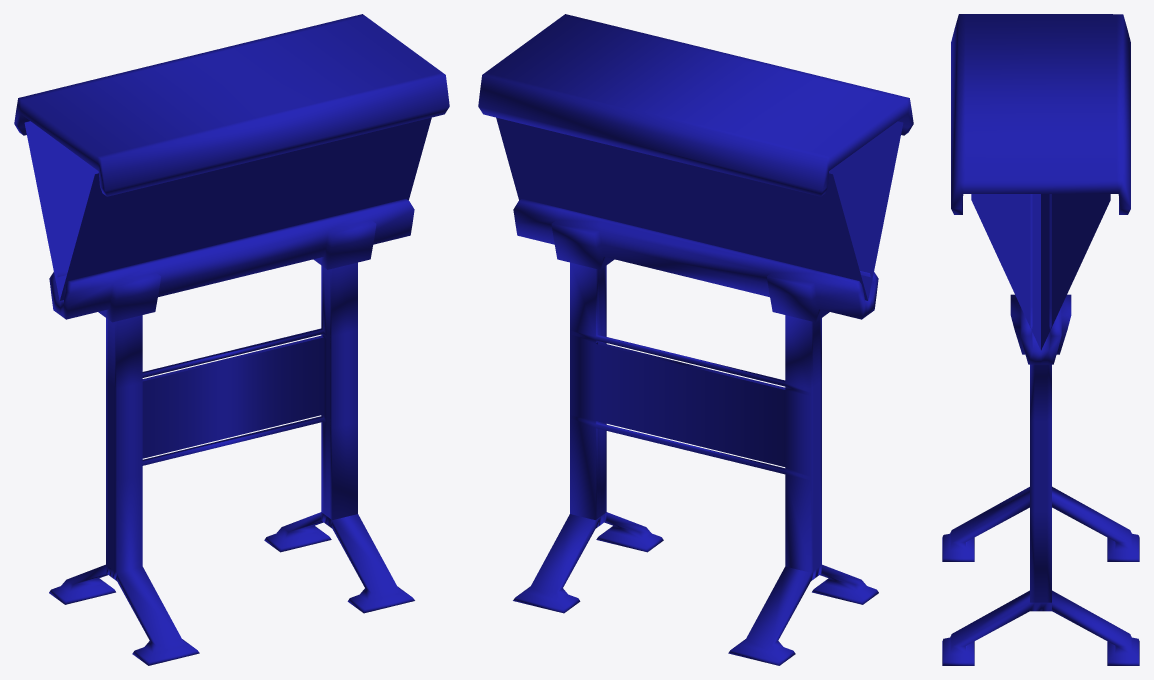
Rendered from info_panel.obj.
3 views of the same model, side by side, from view 1: azimuth 30°, elevation 25°; view 2: azimuth 150°, elevation 25°; view 3: azimuth 270°, elevation 25° (orthographic).
Visible parts, largest first — view 1: infopanel; view 2: infopanel; view 3: infopanel.
Part boxes in pixels (x1,y1,x2,y2): infopanel: (14,14,449,665); infopanel: (478,14,913,665); infopanel: (942,14,1139,665).
Bounding box in the file's own units: 75.58 × 107 × 37.86.
